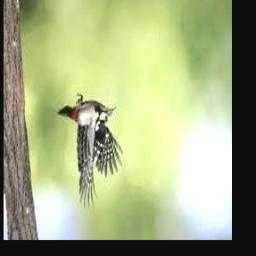Woodpecker: (58, 94, 124, 213)
